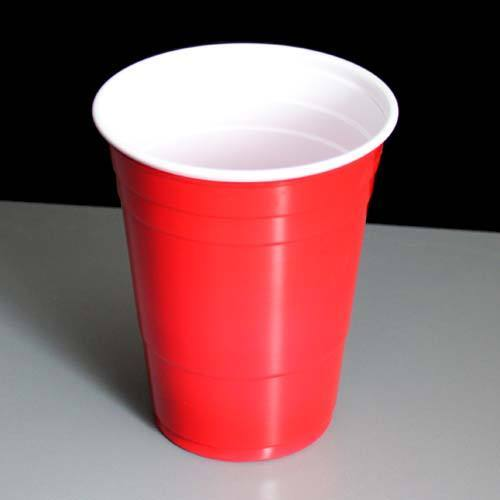plastic_bottle: (89, 33, 402, 458)
